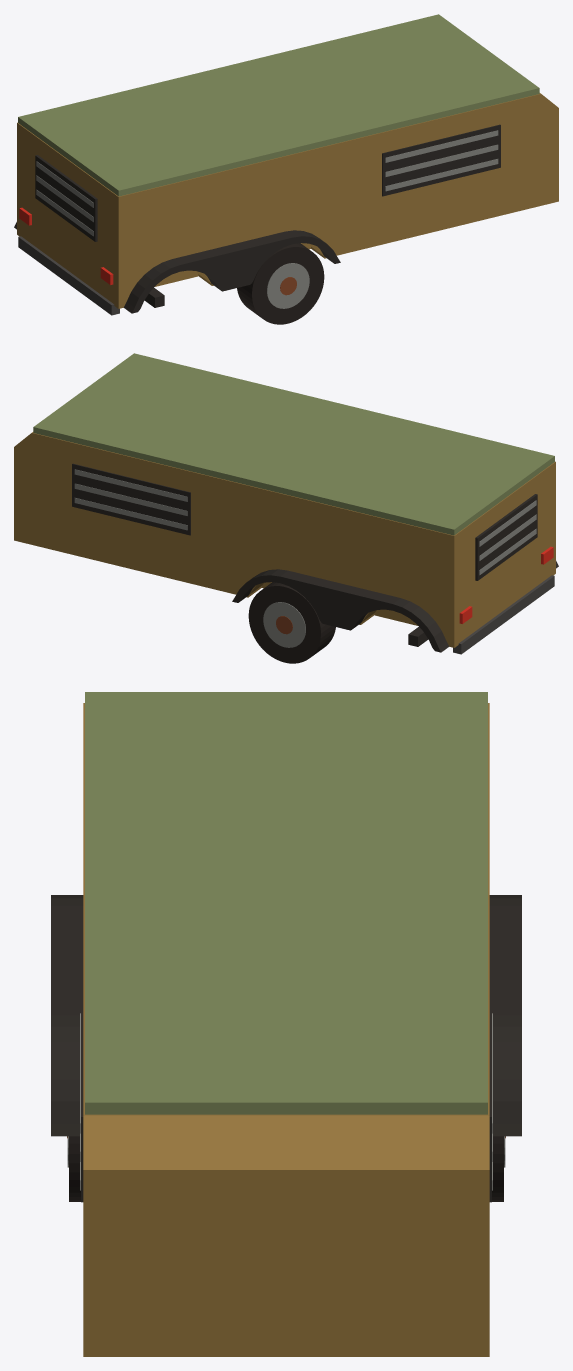
The model's file is base_sorokonoga_rear.glb.
3 views of the same model, one above another, from view 1: azimuth 30°, elevation 25°; view 2: azimuth 150°, elevation 25°; view 3: azimuth 270°, elevation 25° (orthographic). The views are drawn at different scales.
Parts seen in each view (by area): view 1: base_sorokonoga_rear; view 2: base_sorokonoga_rear; view 3: base_sorokonoga_rear.
Part boxes in pixels (x1,y1,x2,y2): base_sorokonoga_rear: [14, 14, 558, 324]; base_sorokonoga_rear: [14, 353, 558, 663]; base_sorokonoga_rear: [51, 692, 521, 1356].
Bounding box in the file's own units: 6.3 × 2.31 × 2.9.
